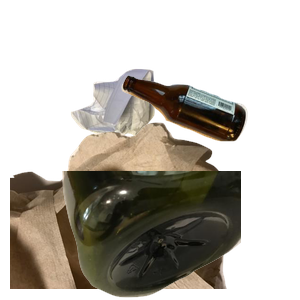glass: (119, 73, 300, 207)
paper: (68, 66, 215, 197)
plastic: (60, 171, 300, 300)
trash: (10, 120, 229, 300)
